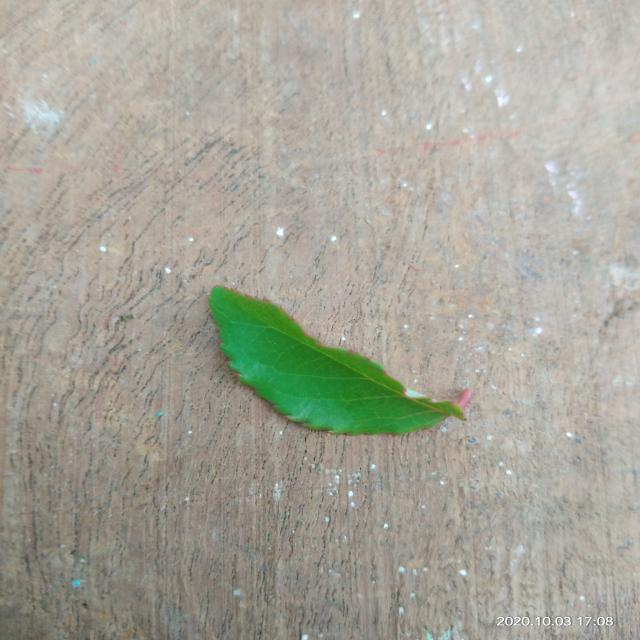rose: (208, 286, 472, 435)
